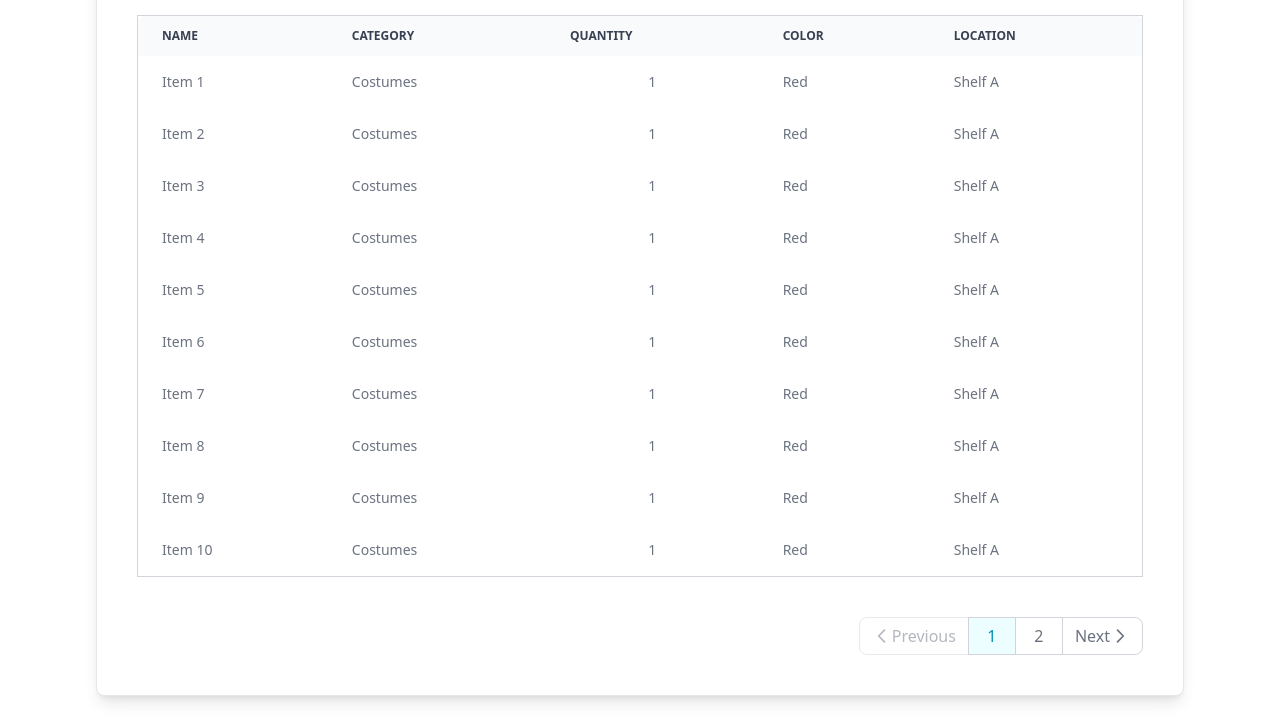
Test: Items Page › fetches and displays next page of items when Next button or page number is clicked
(page scrolled)
Check: the text "Item 1" is shown, box [138,56,328,108]
Check: the text "Item 10" is shown, box [138,524,328,576]
# Click Next button in pagination
Click the button "Next": x=1102, y=636 [1062,617,1143,655]
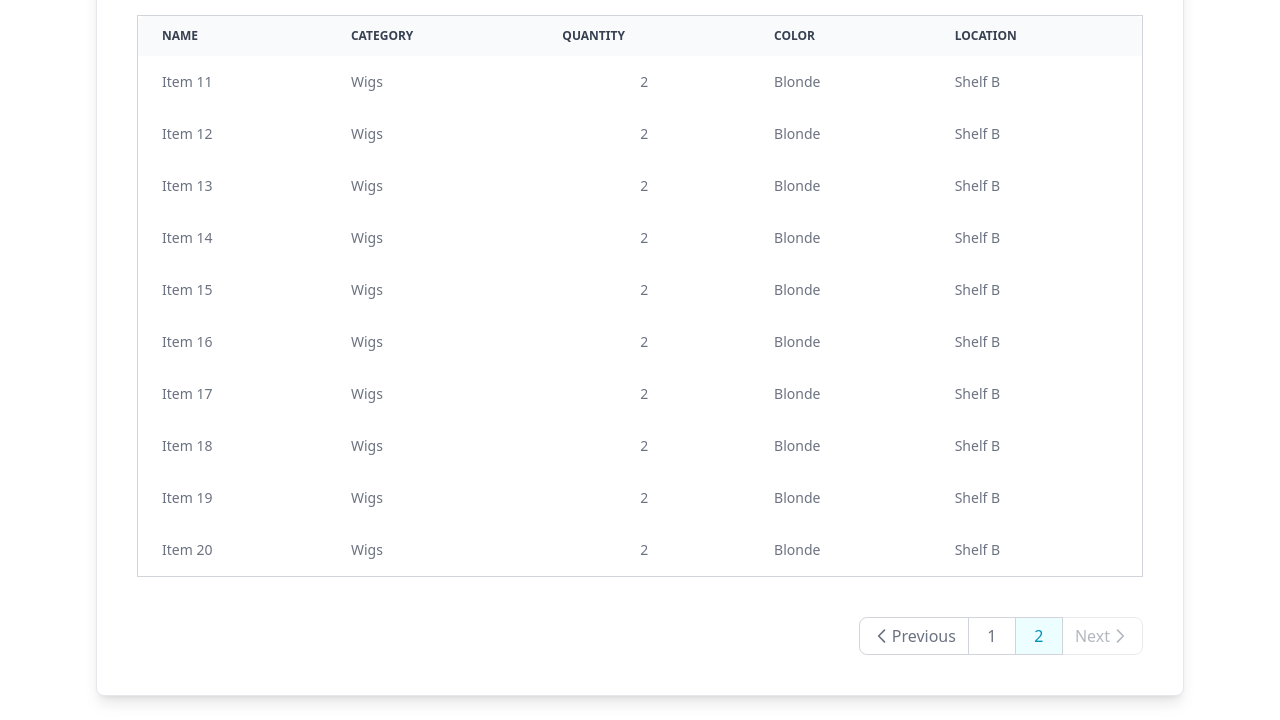
Check: the text "Item 11" is shown, box [138,56,327,108]
Check: the text "Item 20" is shown, box [138,524,327,576]
# Click on page number 1 button
Click the button "1": x=992, y=636 [968,617,1016,655]
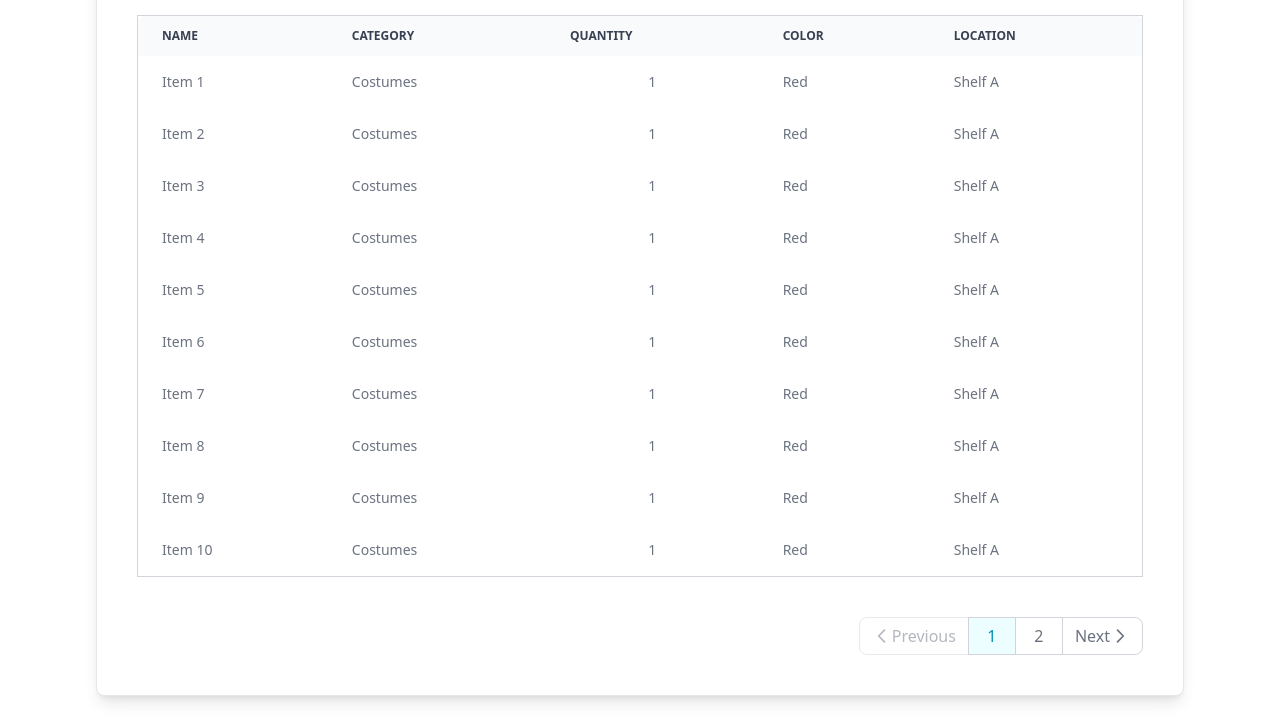
Check: the text "Item 1" is shown, box [138,56,328,108]
Check: the text "Item 7" is shown, box [138,368,328,420]
Check: the text "Item 14" is gone
